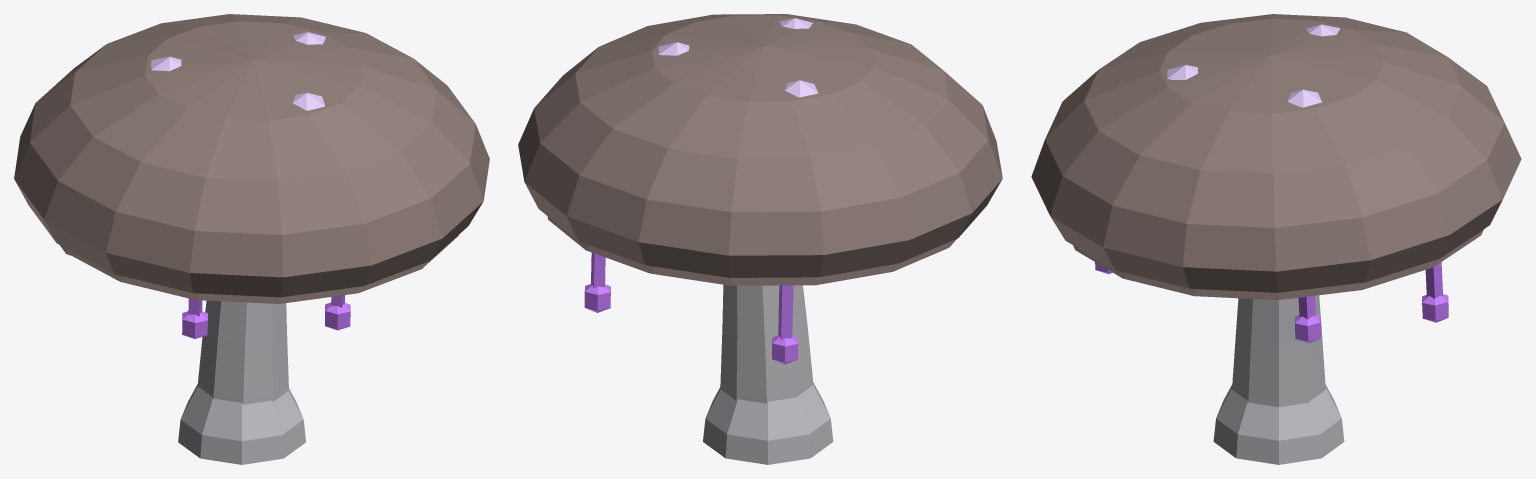
Rendered from plant_agarilux_a.obj.
3 renders of one model, left to right at view 1: azimuth 30°, elevation 25°; view 2: azimuth 150°, elevation 25°; view 3: azimuth 270°, elevation 25°, orthographic. The views are drawn at different scales.
Visible parts, largest first — view 1: plant_agarilux_a_3, plant_agarilux_a_0, plant_agarilux_a_1, plant_agarilux_a_2, plant_agarilux_a_21, plant_agarilux_a_23; view 2: plant_agarilux_a_3, plant_agarilux_a_0, plant_agarilux_a_1, plant_agarilux_a_2, plant_agarilux_a_18, plant_agarilux_a_17, plant_agarilux_a_19; view 3: plant_agarilux_a_3, plant_agarilux_a_0, plant_agarilux_a_1, plant_agarilux_a_2, plant_agarilux_a_15, plant_agarilux_a_17, plant_agarilux_a_16.
Boxes of the visible parts, x1=… form: plant_agarilux_a_3: x1=14, y1=14, x2=489, y2=297; plant_agarilux_a_0: x1=197, y1=300, x2=288, y2=404; plant_agarilux_a_1: x1=178, y1=384, x2=305, y2=464; plant_agarilux_a_2: x1=60, y1=235, x2=458, y2=303; plant_agarilux_a_21: x1=182, y1=311, x2=207, y2=338; plant_agarilux_a_23: x1=325, y1=302, x2=350, y2=330; plant_agarilux_a_3: x1=518, y1=14, x2=1002, y2=277; plant_agarilux_a_0: x1=720, y1=284, x2=813, y2=403; plant_agarilux_a_1: x1=703, y1=382, x2=833, y2=464; plant_agarilux_a_2: x1=547, y1=216, x2=956, y2=285; plant_agarilux_a_18: x1=778, y1=285, x2=793, y2=340; plant_agarilux_a_17: x1=584, y1=284, x2=610, y2=312; plant_agarilux_a_19: x1=772, y1=335, x2=798, y2=364; plant_agarilux_a_3: x1=1031, y1=14, x2=1521, y2=292; plant_agarilux_a_0: x1=1232, y1=295, x2=1325, y2=407; plant_agarilux_a_1: x1=1213, y1=384, x2=1344, y2=464; plant_agarilux_a_2: x1=1073, y1=229, x2=1483, y2=299; plant_agarilux_a_15: x1=1294, y1=314, x2=1321, y2=342; plant_agarilux_a_17: x1=1422, y1=294, x2=1448, y2=322; plant_agarilux_a_16: x1=1425, y1=262, x2=1442, y2=298.
Bounding box in the file's own units: 0.96 × 0.8369 × 0.9592.
